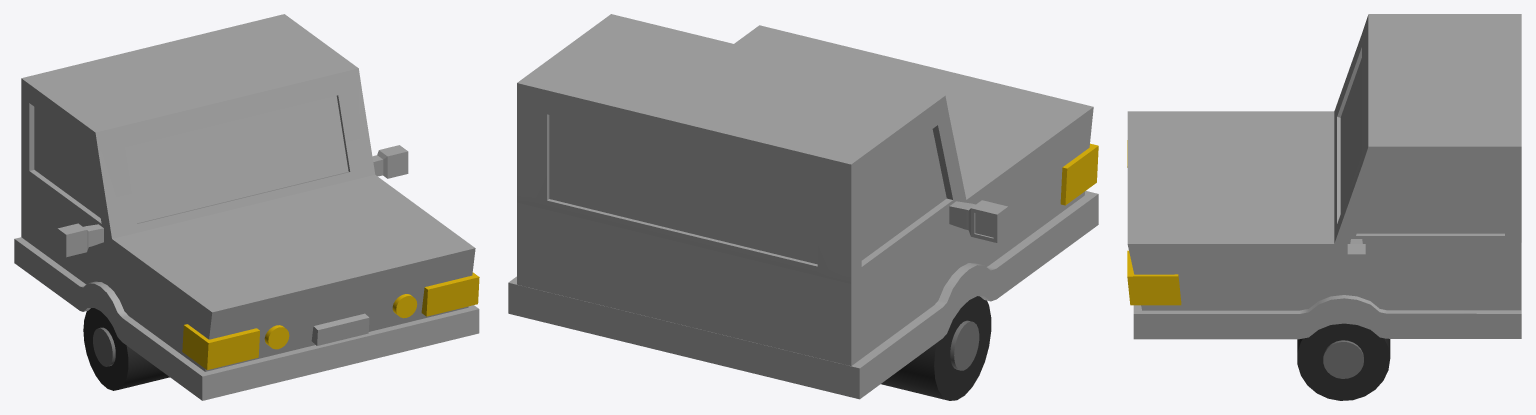
The model's file is avant vehicule long.fbx.
3 renders of one model, left to right at view 1: azimuth 30°, elevation 25°; view 2: azimuth 150°, elevation 25°; view 3: azimuth 270°, elevation 25°, orthographic. The views are drawn at different scales.
Visible parts, largest first — view 1: avant_vehicule_long; view 2: avant_vehicule_long; view 3: avant_vehicule_long.
Part boxes in pixels (x1,y1,x2,y2): avant_vehicule_long: (14, 14, 479, 400); avant_vehicule_long: (508, 14, 1098, 400); avant_vehicule_long: (1127, 14, 1521, 400).
Size of the model in its own units: 2.34 by 1.61 by 2.26.
